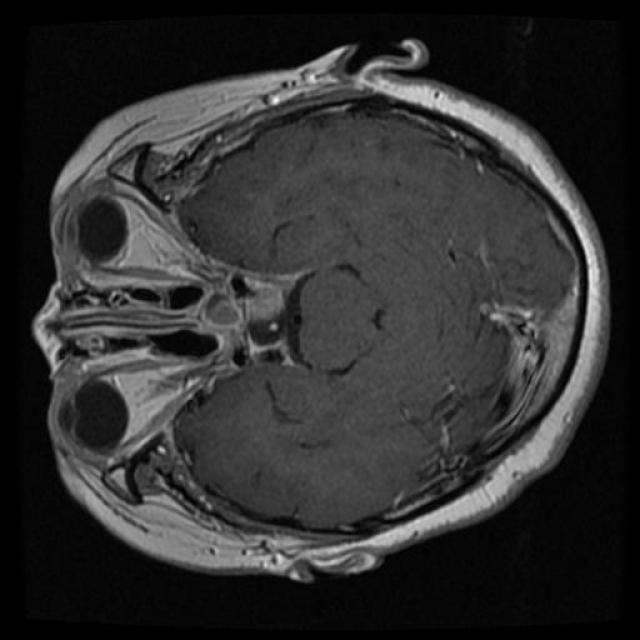Pituitary: (228, 272, 314, 370)
